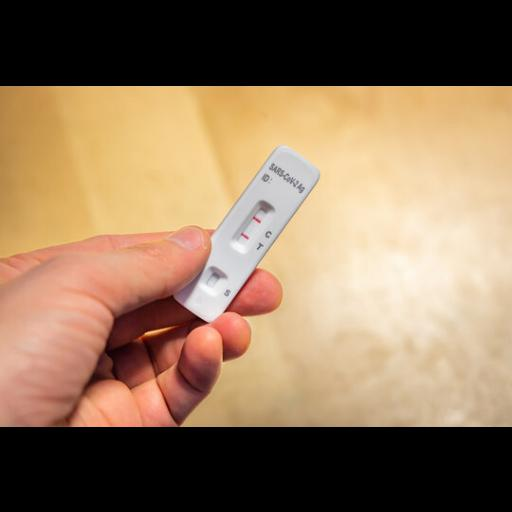Pos: (173, 143, 324, 323)
